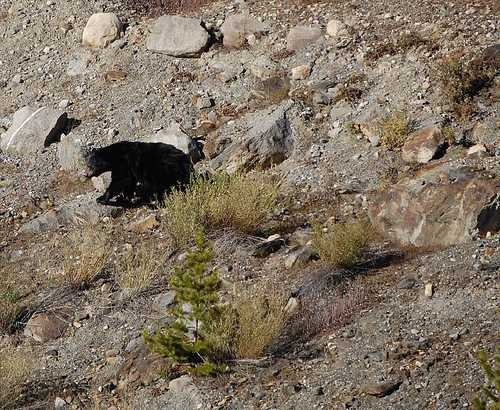bear: (72, 112, 200, 240)
